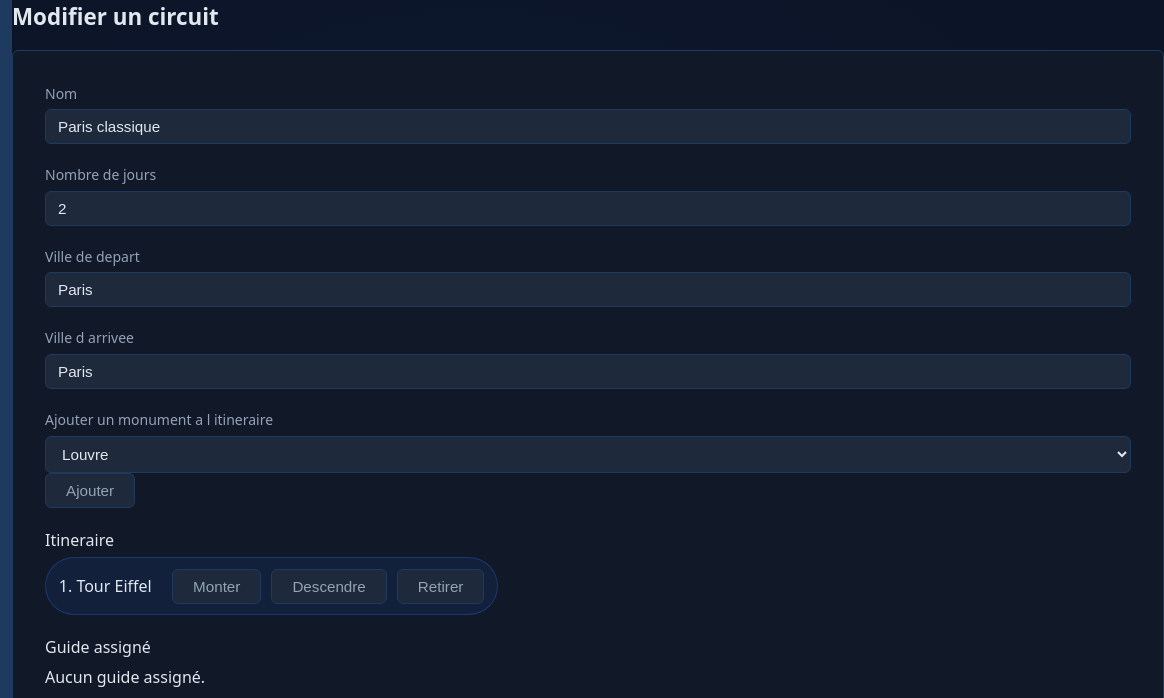
ModifierCircuit › affiche un message d'erreur si des champs sont vides a la soumission
Clear the field labelled "Nom" at (588,127), box [45, 109, 1131, 144]
(page scrolled)
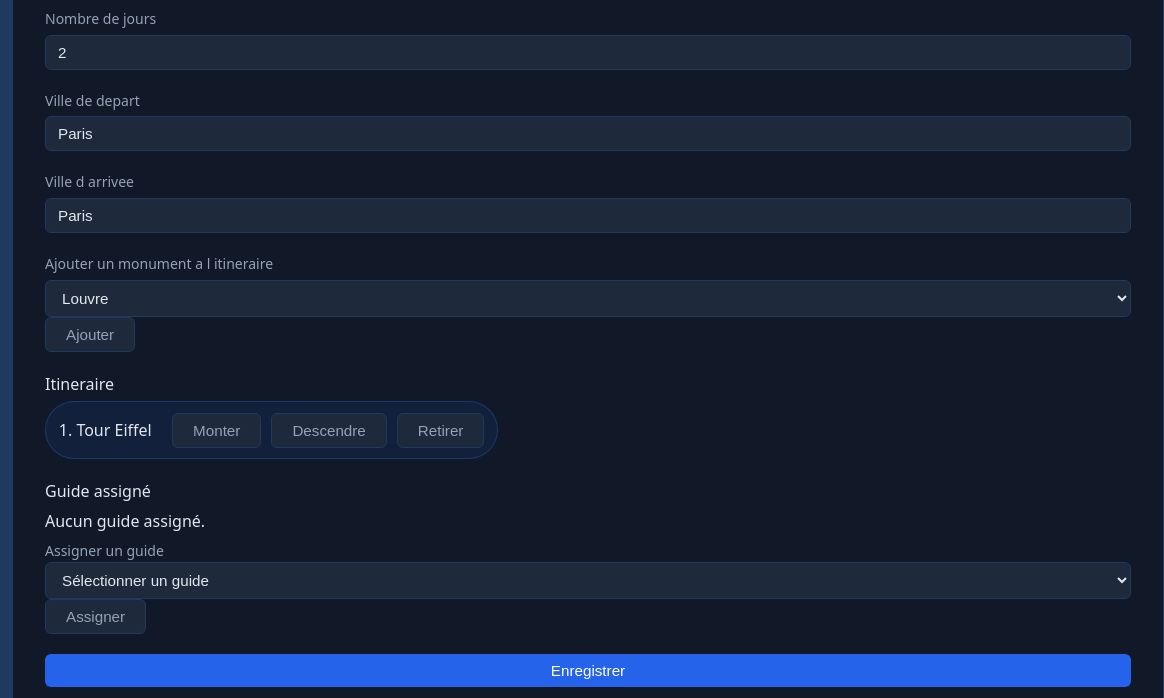
Click the button "Enregistrer" at (588,671), box [45, 654, 1131, 687]
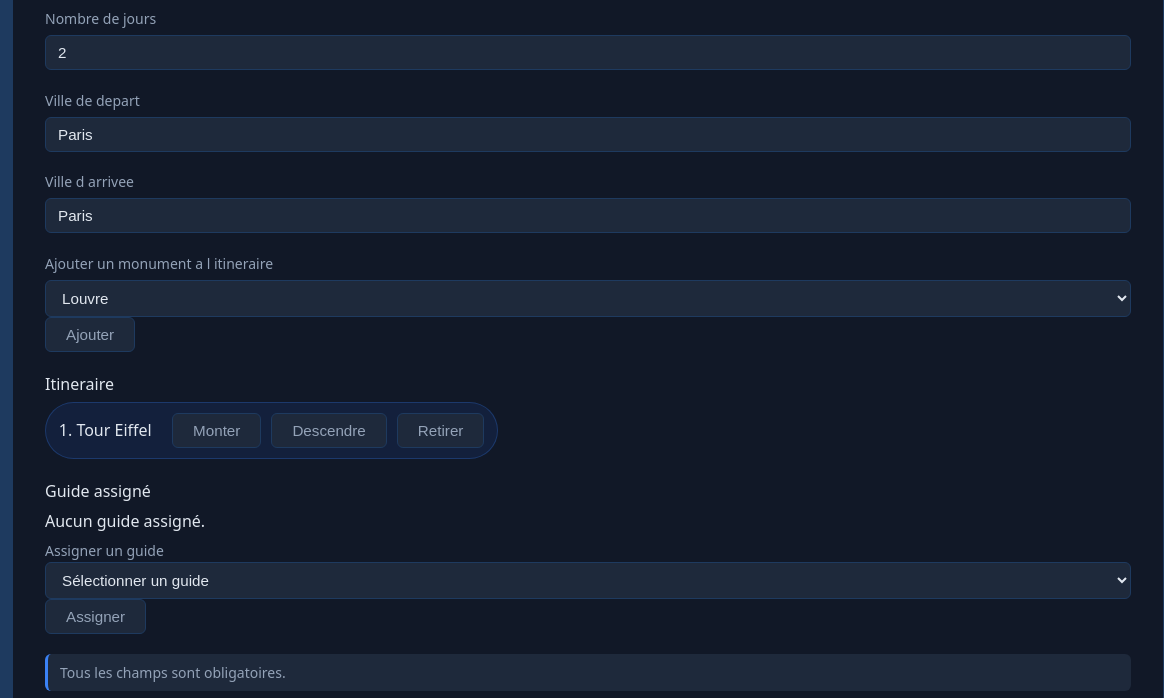
Check: the text "Tous les champs sont obligatoires." is shown, box [45, 654, 1131, 691]
